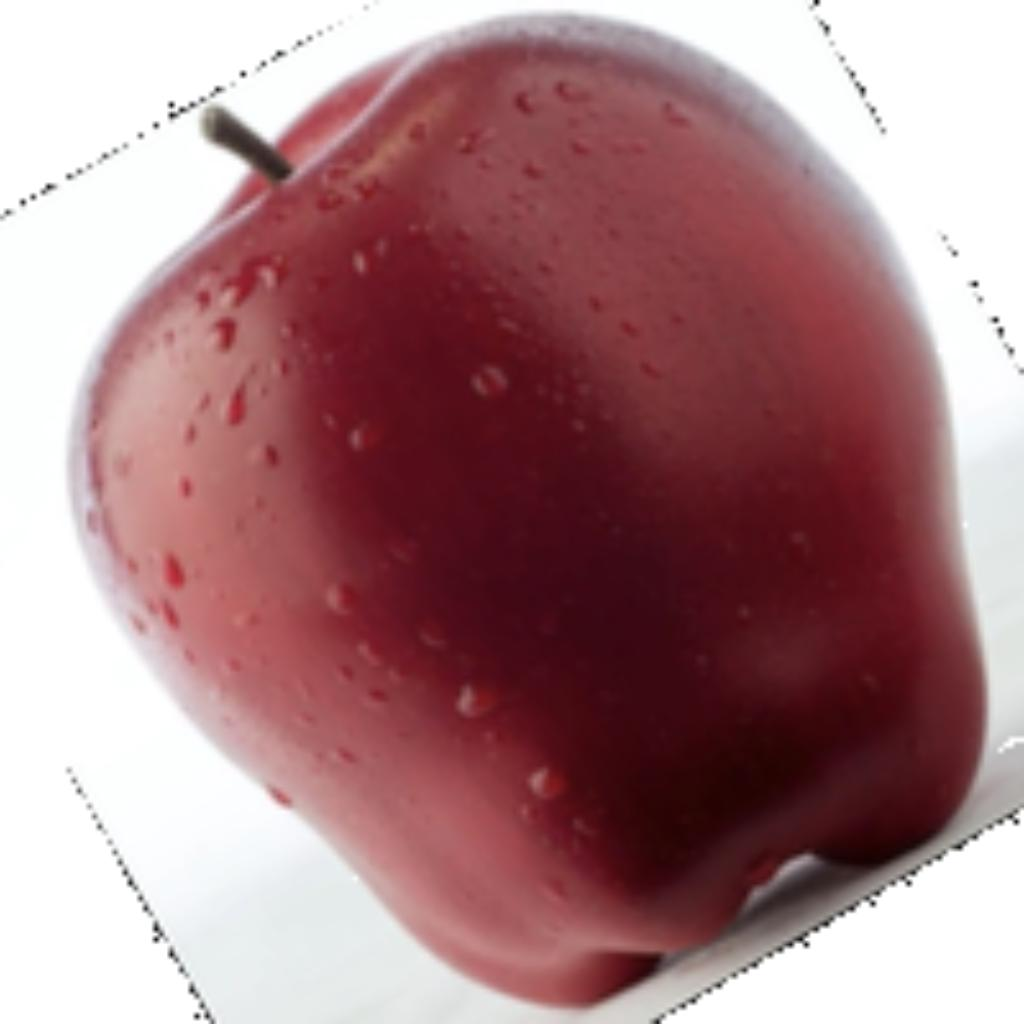apple: (56, 0, 1019, 1019)
